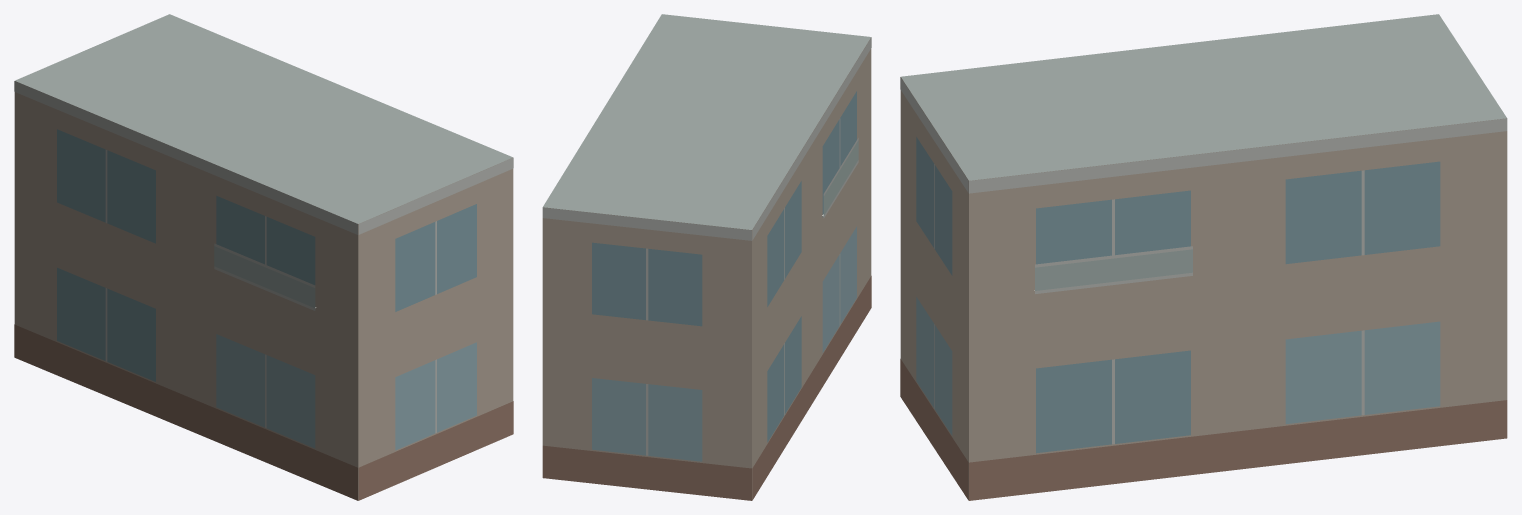
Rendered from survey-upis-32939163.glb.
3 views of the same model, side by side, from view 1: azimuth 30°, elevation 25°; view 2: azimuth 150°, elevation 25°; view 3: azimuth 270°, elevation 25° (orthographic). The views are drawn at different scales.
Parts seen in each view (by area): view 1: survey-upis-32939163.tmp; view 2: survey-upis-32939163.tmp; view 3: survey-upis-32939163.tmp.
Boxes of the visible parts, <box> form: survey-upis-32939163.tmp: <box>14,14,513,500</box>; survey-upis-32939163.tmp: <box>542,14,871,500</box>; survey-upis-32939163.tmp: <box>900,14,1507,500</box>.
Size of the model in its own units: 6.83 by 6.1 by 10.49.
